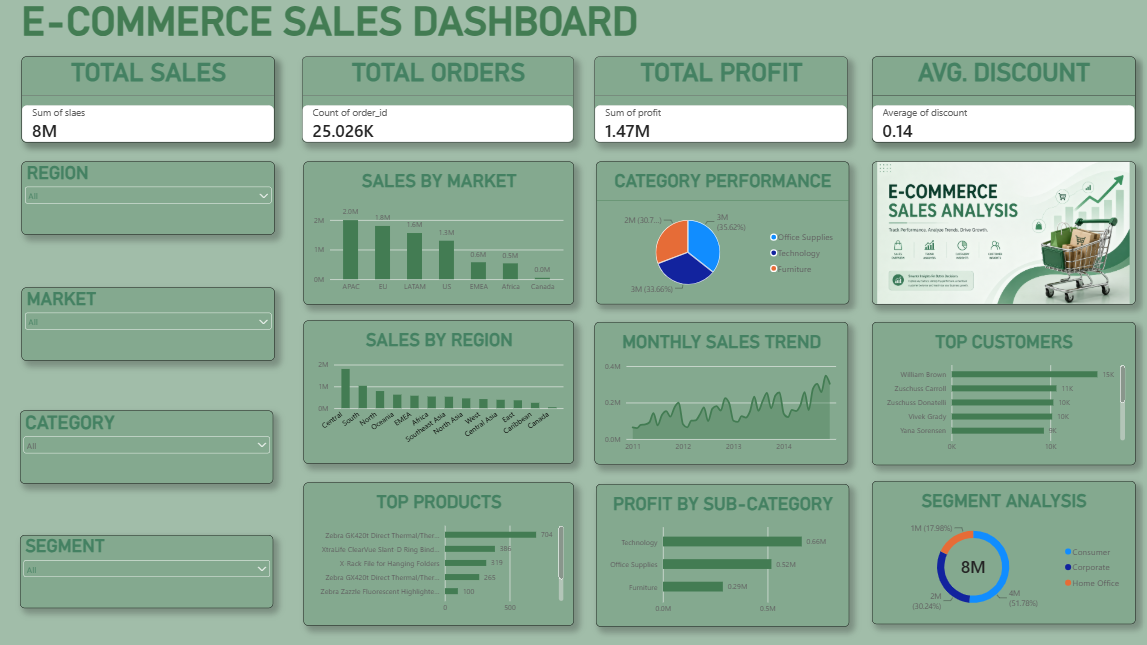

The dashboard page shown, as its layout file describes it:
{"tool":"powerbi","page":{"name":"Page 1","canvas":[1920,1080],"ordinal":0},"visuals":[{"type":"cardVisual","title":"TOTAL SALES","fields":{"Data":["Sum(cleaned_ecommerce_data.slaes)"]},"box":[38.2,97.8,422.3,143.2],"z":0},{"type":"cardVisual","title":"AVG. DISCOUNT","fields":{"Data":["Avg(cleaned_ecommerce_data.discount)"]},"box":[1455.4,97.8,439,143.2],"z":1000},{"type":"cardVisual","title":"TOTAL ORDERS","fields":{"Data":["Count(cleaned_ecommerce_data.order_id)"]},"box":[505.8,97.8,453.3,143.2],"z":2000},{"type":"cardVisual","title":"TOTAL PROFIT","fields":{"Data":["Sum(cleaned_ecommerce_data.profit)"]},"box":[992.5,97.8,422.3,143.2],"z":3000},{"type":"clusteredColumnChart","title":"SALES BY REGION","fields":{"Category":["cleaned_ecommerce_data.region"],"Y":["Sum(cleaned_ecommerce_data.sales)"]},"box":[508.2,536.8,450.9,238.6],"z":4000},{"type":"clusteredColumnChart","title":"SALES BY MARKET","fields":{"Category":["cleaned_ecommerce_data.market"],"Y":["Sum(cleaned_ecommerce_data.sales)"]},"box":[508.2,272,450.9,238.6],"z":5000},{"type":"lineChart","title":"MONTHLY SALES TREND","fields":{"Category":["cleaned_ecommerce_data.order_date.Variation.Date Hierarchy.Year","cleaned_ecommerce_data.order_date.Variation.Date Hierarchy.Quarter","cleaned_ecommerce_data.order_date.Variation.Date Hierarchy.Month"],"Y":["Sum(cleaned_ecommerce_data.sales)"]},"box":[991.7,539.2,422.5,237.5],"z":6000},{"type":"pieChart","title":"CATEGORY PERFORMANCE","fields":{"Category":["cleaned_ecommerce_data.category"],"Y":["Sum(cleaned_ecommerce_data.sales)"]},"box":[994.9,272,422,238],"z":7000},{"type":"barChart","title":"TOP PRODUCTS","fields":{"Category":["cleaned_ecommerce_data.product_name"],"Y":["Sum(cleaned_ecommerce_data.slaes)"]},"box":[508.2,806.4,450.9,238.6],"z":8000},{"type":"clusteredBarChart","title":"TOP CUSTOMERS","fields":{"Category":["cleaned_ecommerce_data.customer_name"],"Y":["Sum(cleaned_ecommerce_data.sales)"]},"box":[1455,537.5,439,238.6],"z":9000},{"type":"clusteredBarChart","title":"PROFIT BY SUB-CATEGORY","fields":{"Category":["cleaned_ecommerce_data.category"],"Y":["Sum(cleaned_ecommerce_data.profit)"]},"box":[994.9,808.8,422,238],"z":10000},{"type":"donutChart","title":"SEGMENT ANALYSIS","fields":{"Category":["cleaned_ecommerce_data.segment"],"Y":["Sum(cleaned_ecommerce_data.sales)"]},"box":[1455.4,804.1,439,238.6],"z":11000},{"type":"slicer","fields":{"Values":["cleaned_ecommerce_data.market"]},"box":[38.2,272,422.3,121.7],"z":12000},{"type":"slicer","fields":{"Values":["cleaned_ecommerce_data.market"]},"box":[38.2,482,422,121.9],"z":13000},{"type":"slicer","fields":{"Values":["cleaned_ecommerce_data.category"]},"box":[35.8,687.1,422,121.9],"z":14000},{"type":"slicer","fields":{"Values":["cleaned_ecommerce_data.segment"]},"box":[35.8,894.7,422,121.9],"z":15000},{"type":"textbox","title":"E-COMMERCE SALES DASHBOARD","box":[38.2,0,1779.9,71.6],"z":15001},{"type":"image","box":[1455.4,272,439,238.6],"z":15002}]}

Visuals, with their boxes in screenshot pixels (x1, y1, x2, y2), scaled from the page's 1920x1080 canvas onto the 1147x645 screenshot:
"TOTAL SALES" cardVisual: (left=23, top=58, right=275, bottom=144)
"AVG. DISCOUNT" cardVisual: (left=869, top=58, right=1132, bottom=144)
"TOTAL ORDERS" cardVisual: (left=302, top=58, right=573, bottom=144)
"TOTAL PROFIT" cardVisual: (left=593, top=58, right=845, bottom=144)
"SALES BY REGION" clusteredColumnChart: (left=304, top=321, right=573, bottom=463)
"SALES BY MARKET" clusteredColumnChart: (left=304, top=162, right=573, bottom=305)
"MONTHLY SALES TREND" lineChart: (left=592, top=322, right=845, bottom=464)
"CATEGORY PERFORMANCE" pieChart: (left=594, top=162, right=846, bottom=305)
"TOP PRODUCTS" barChart: (left=304, top=482, right=573, bottom=624)
"TOP CUSTOMERS" clusteredBarChart: (left=869, top=321, right=1131, bottom=464)
"PROFIT BY SUB-CATEGORY" clusteredBarChart: (left=594, top=483, right=846, bottom=625)
"SEGMENT ANALYSIS" donutChart: (left=869, top=480, right=1132, bottom=623)
slicer - cleaned_ecommerce_data.market: (left=23, top=162, right=275, bottom=235)
slicer - cleaned_ecommerce_data.market: (left=23, top=288, right=275, bottom=361)
slicer - cleaned_ecommerce_data.category: (left=21, top=410, right=273, bottom=483)
slicer - cleaned_ecommerce_data.segment: (left=21, top=534, right=273, bottom=607)
"E-COMMERCE SALES DASHBOARD" textbox: (left=23, top=0, right=1086, bottom=43)
image: (left=869, top=162, right=1132, bottom=305)
